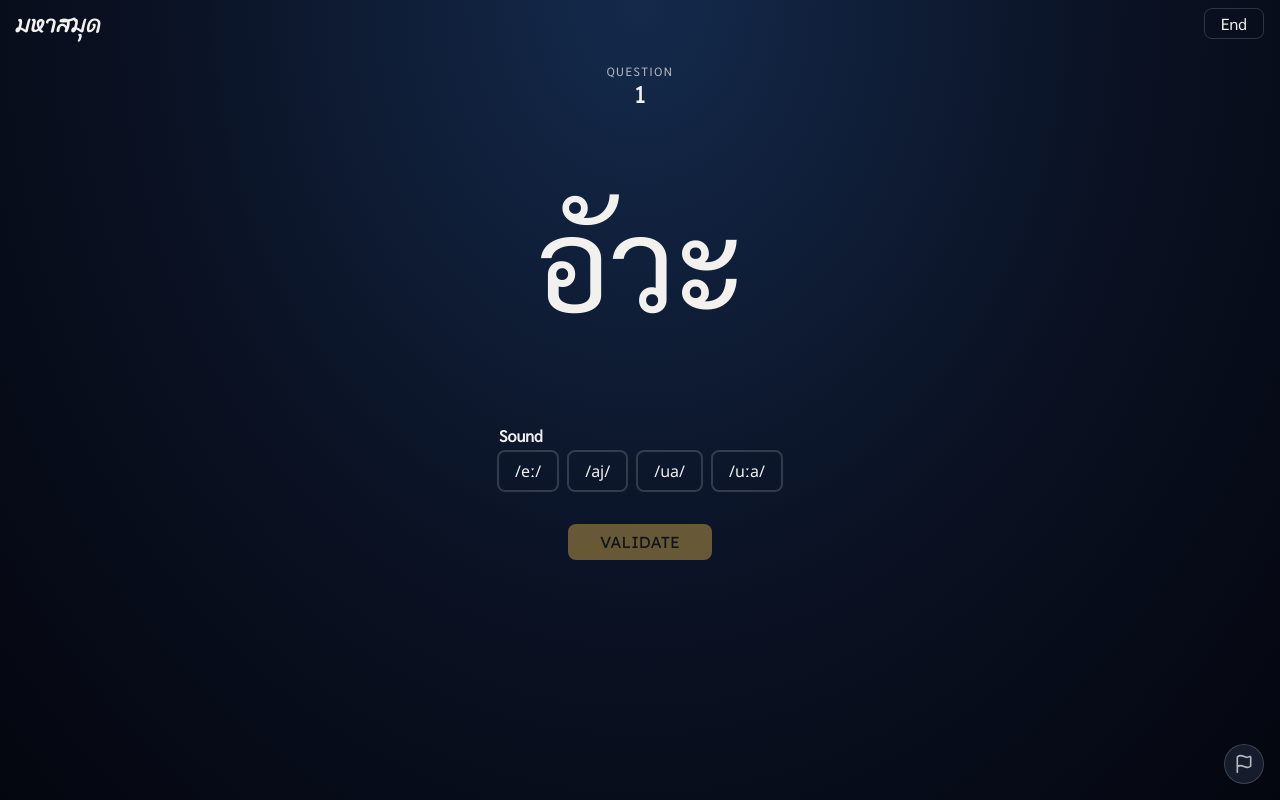
Test case: VowelPage › reporting a question › opens the window on the vowel shown, with the reasons of the game
Click the button named "Report a problem with this question".
click(1244, 764)  # box [1224,744,1264,784]
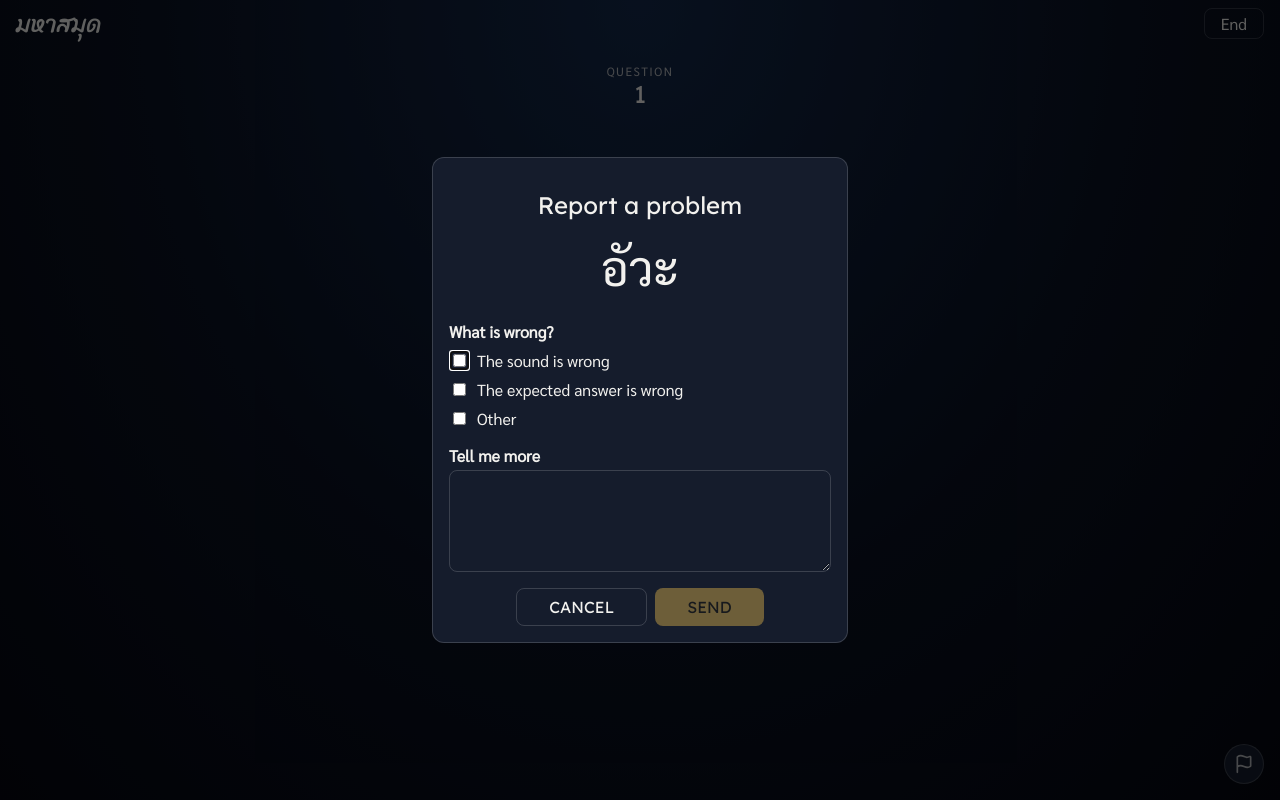
Expected: the text "อัวะ" below "Report a problem" is shown, [601,235,679,297]
